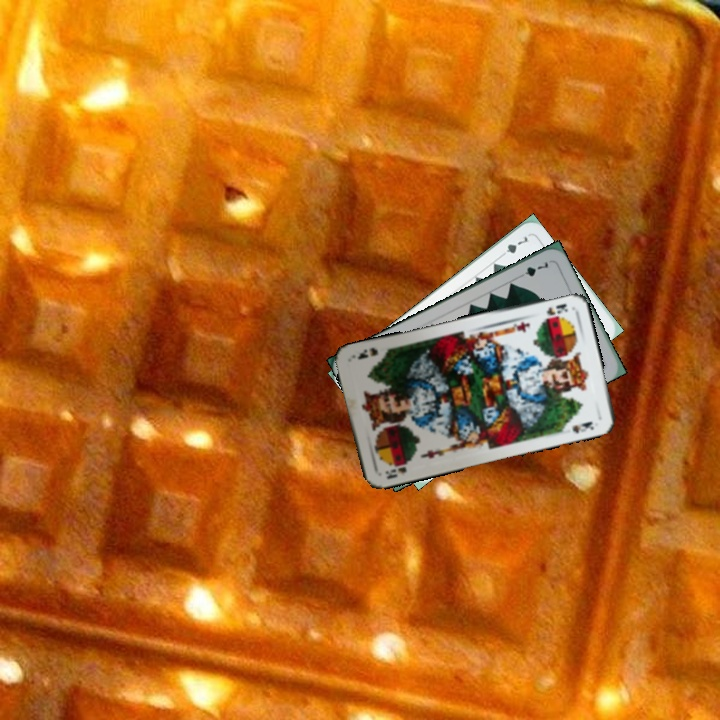G7: (495, 232, 532, 260), (513, 257, 551, 281)
SK: (381, 456, 415, 482), (542, 299, 570, 318)
